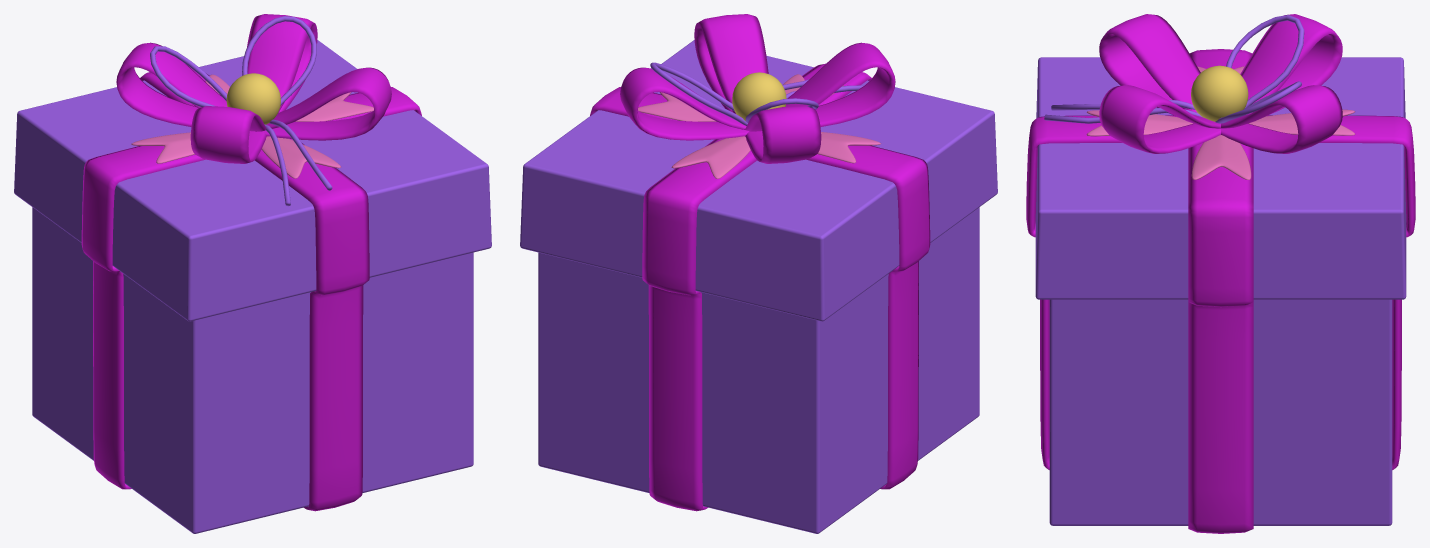
Rendered from ShildGift.fbx.
3 views of the same model, side by side, from view 1: azimuth 30°, elevation 25°; view 2: azimuth 150°, elevation 25°; view 3: azimuth 270°, elevation 25° (orthographic). The views are drawn at different scales.
Parts seen in each view (by area): view 1: Giftbox01; view 2: Giftbox01; view 3: Giftbox01.
Boxes of the visible parts, <box> form: Giftbox01: <box>14,14,491,533</box>; Giftbox01: <box>520,14,997,533</box>; Giftbox01: <box>1026,14,1415,533</box>.
Size of the model in its own units: 227 by 266 by 227.
